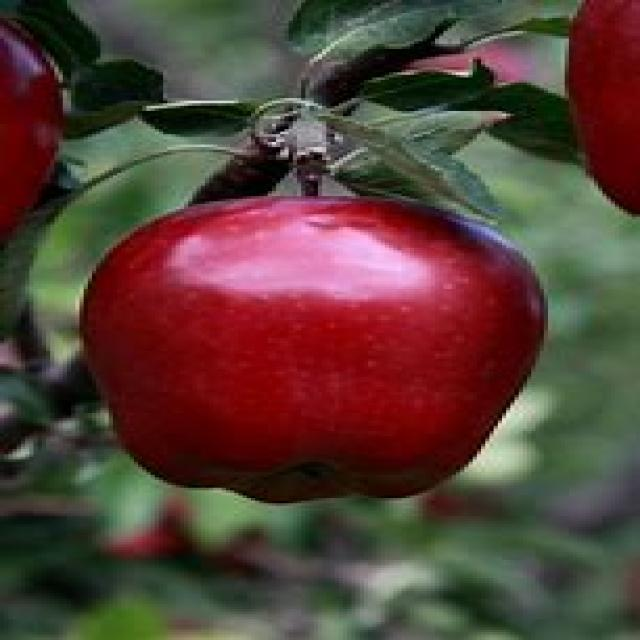Apple: (74, 190, 560, 498)
